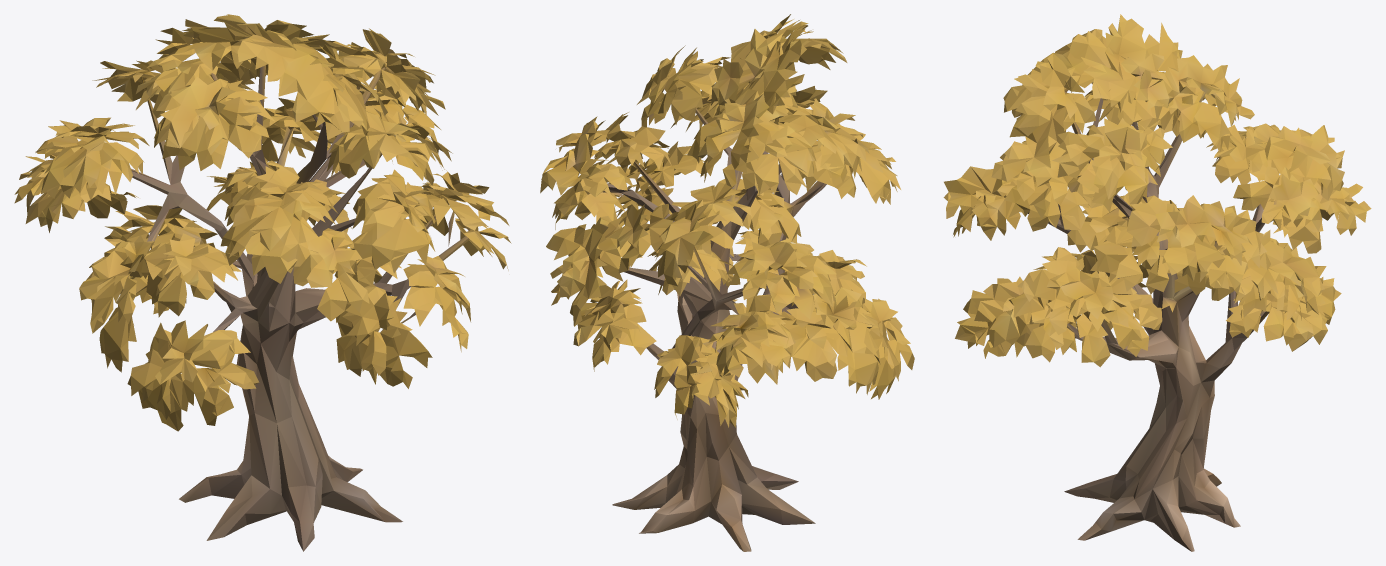
Rendered from autumn_tree_a.glb.
3 views of the same model, side by side, from view 1: azimuth 30°, elevation 25°; view 2: azimuth 150°, elevation 25°; view 3: azimuth 270°, elevation 25° (orthographic). The views are drawn at different scales.
Parts seen in each view (by area): view 1: tripo_node_065cf658-01eb-4e3f-a06f-1e2f1edfe7f0; view 2: tripo_node_065cf658-01eb-4e3f-a06f-1e2f1edfe7f0; view 3: tripo_node_065cf658-01eb-4e3f-a06f-1e2f1edfe7f0.
Part boxes in pixels (<box>): tripo_node_065cf658-01eb-4e3f-a06f-1e2f1edfe7f0: <box>14,14,511,551</box>; tripo_node_065cf658-01eb-4e3f-a06f-1e2f1edfe7f0: <box>540,14,914,551</box>; tripo_node_065cf658-01eb-4e3f-a06f-1e2f1edfe7f0: <box>943,14,1371,551</box>.
Size of the model in its own units: 0.683 by 0.9773 by 0.8173.
